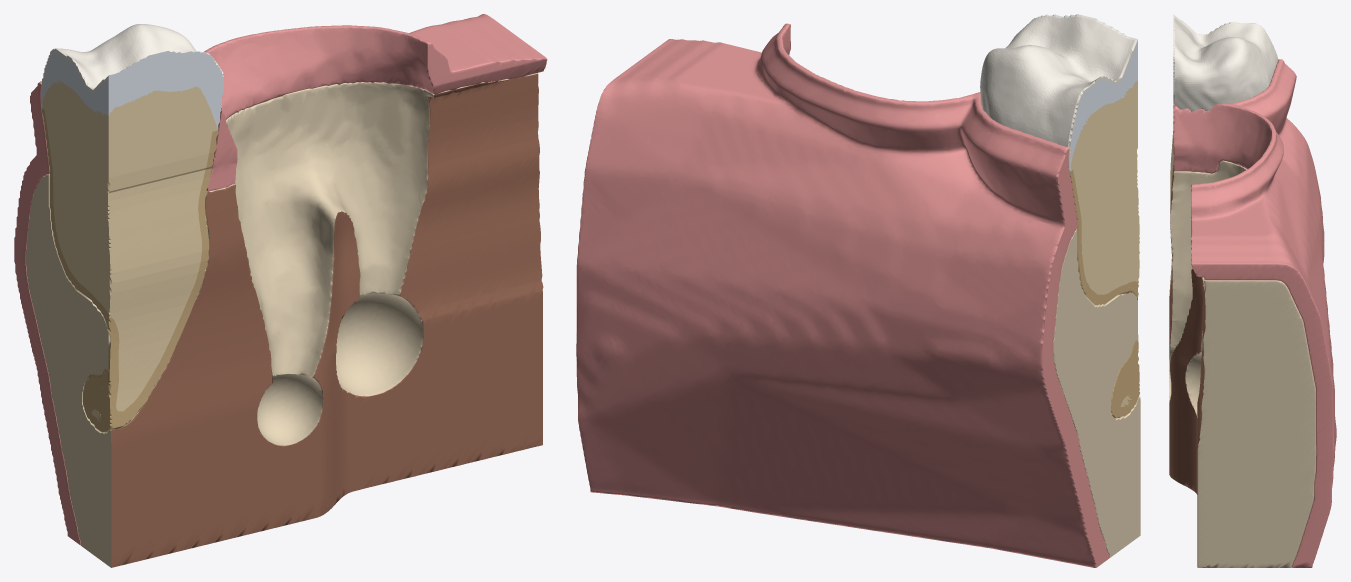
File: ext-after.glb
3 renders of one model, left to right at view 1: azimuth 30°, elevation 25°; view 2: azimuth 150°, elevation 25°; view 3: azimuth 270°, elevation 25°, orthographic. The views are drawn at different scales.
Parts seen in each view (by area): view 1: bone_1, bone, teeth teeth_2, gum, teeth teeth_3, teeth teeth_1, teeth teeth_4, gum_1, teeth teeth; view 2: gum, bone, teeth teeth_4, teeth teeth_2, teeth teeth_3, teeth teeth_1, teeth teeth; view 3: bone, gum, teeth teeth_4, bone_1.
Boxes of the visible parts, bbox=[...] form: bone_1: bbox=[111, 73, 543, 567]; bone: bbox=[25, 73, 539, 567]; teeth teeth_2: bbox=[42, 80, 218, 422]; gum: bbox=[14, 14, 546, 545]; teeth teeth_3: bbox=[42, 51, 223, 128]; teeth teeth_1: bbox=[43, 109, 218, 429]; teeth teeth_4: bbox=[41, 24, 223, 108]; gum_1: bbox=[207, 43, 547, 191]; teeth teeth: bbox=[42, 108, 216, 432]; gum: bbox=[576, 23, 1109, 567]; bone: bbox=[1053, 229, 1140, 557]; teeth teeth_4: bbox=[980, 14, 1137, 171]; teeth teeth_2: bbox=[1071, 80, 1139, 406]; teeth teeth_3: bbox=[1038, 14, 1137, 164]; teeth teeth_1: bbox=[1071, 170, 1139, 415]; teeth teeth: bbox=[1070, 171, 1139, 418]; bone: bbox=[1169, 160, 1316, 567]; gum: bbox=[1173, 59, 1336, 567]; teeth teeth_4: bbox=[1173, 14, 1278, 111]; bone_1: bbox=[1169, 164, 1205, 567].
Size of the model in its own units: 23.45 by 24.97 by 9.67.
